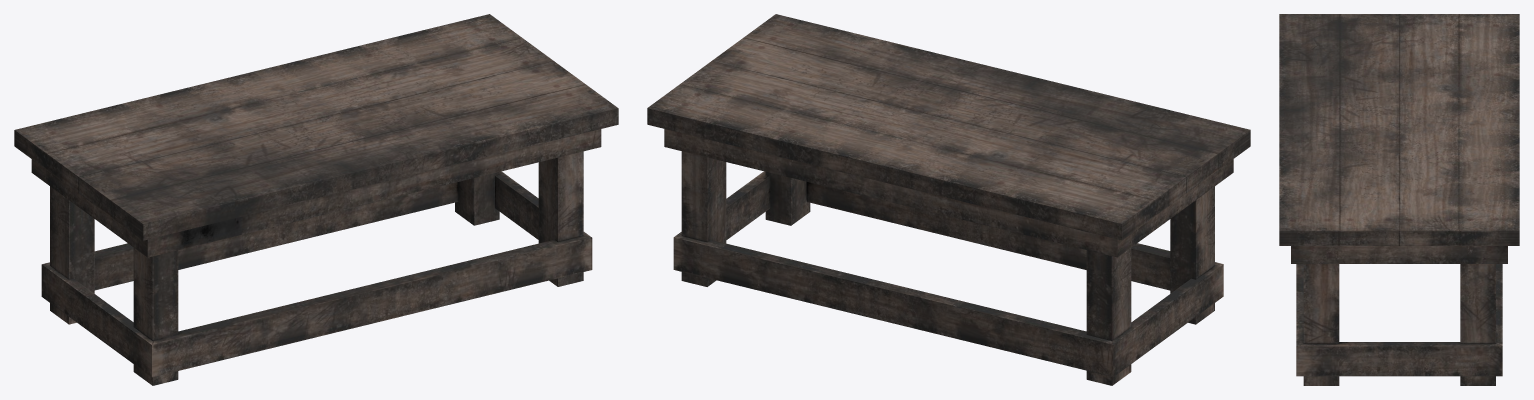
The model's file is schoolbench.glb.
The picture shows the model from 3 angles, left to right: view 1: azimuth 30°, elevation 25°; view 2: azimuth 150°, elevation 25°; view 3: azimuth 270°, elevation 25°; orthographic projection. The views are drawn at different scales.
Visible parts, largest first — view 1: Bench_low; view 2: Bench_low; view 3: Bench_low.
Part boxes in pixels (box(x1,y1,x2,y2)): Bench_low: box(14, 14, 618, 385); Bench_low: box(647, 14, 1250, 385); Bench_low: box(1279, 14, 1519, 385).
Size of the model in its own units: 311 by 110 by 146.
Materials: 1 (1 with a texture image).
